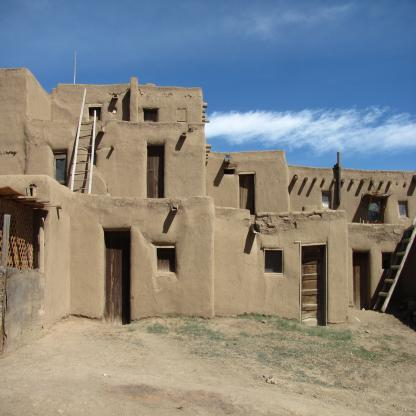Building Outline: (0, 68, 416, 355)
Cornice: (238, 171, 255, 174)
Door: (106, 231, 130, 325), (301, 245, 325, 326), (353, 253, 368, 311), (148, 144, 164, 198), (239, 174, 254, 215)
Facade: (0, 164, 416, 320)
Floor Slab: (0, 201, 206, 209), (213, 224, 416, 232)
Ground Floor: (0, 209, 213, 321), (213, 232, 416, 326)
Top Floor: (0, 94, 203, 201), (206, 164, 416, 224)
Window: (155, 246, 175, 274), (264, 248, 283, 275), (53, 151, 67, 183), (368, 199, 383, 224), (88, 104, 101, 121), (143, 108, 157, 122), (322, 192, 331, 209), (382, 254, 392, 269), (398, 203, 407, 217)
Window Hole: (157, 248, 175, 272), (265, 250, 282, 273)
